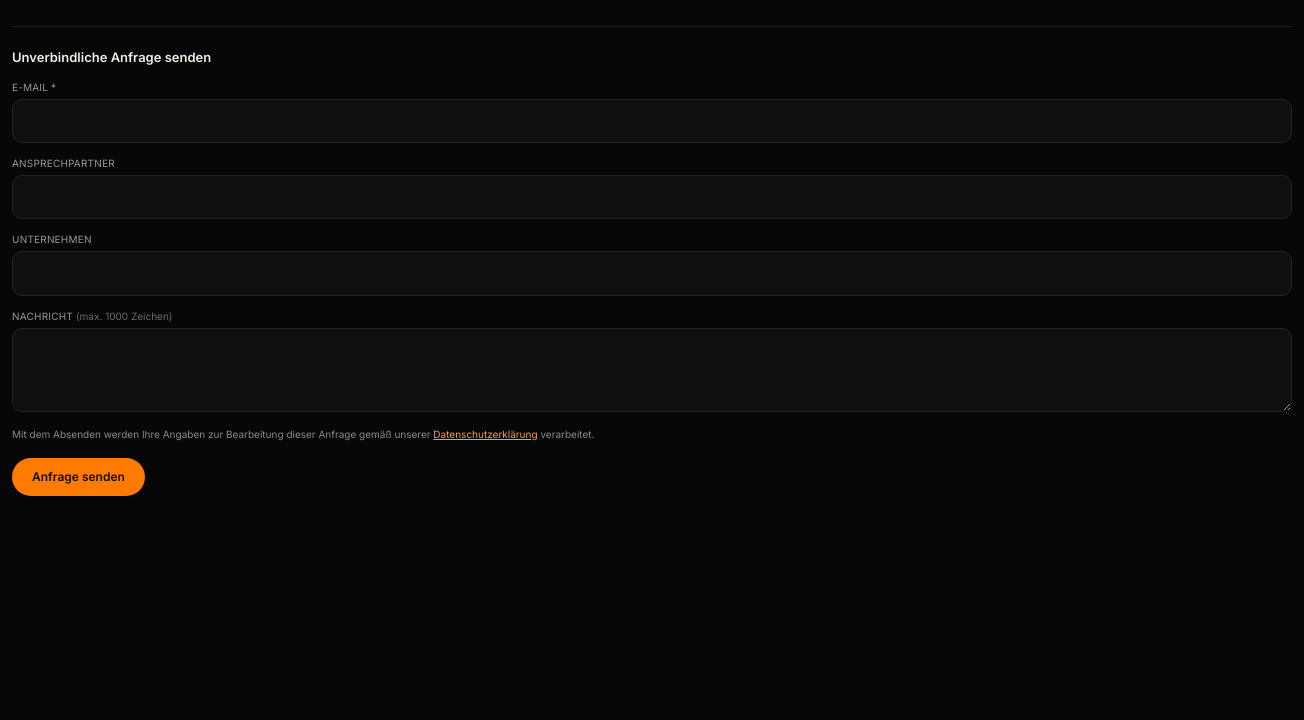
it: ProjectCheckContact › shows a generic error and a mailto fallback on a backend error response, without a fake success
Step 1. Type "visitor@example.com" into the field named "email" → (652, 121), box [12,99,1292,143]
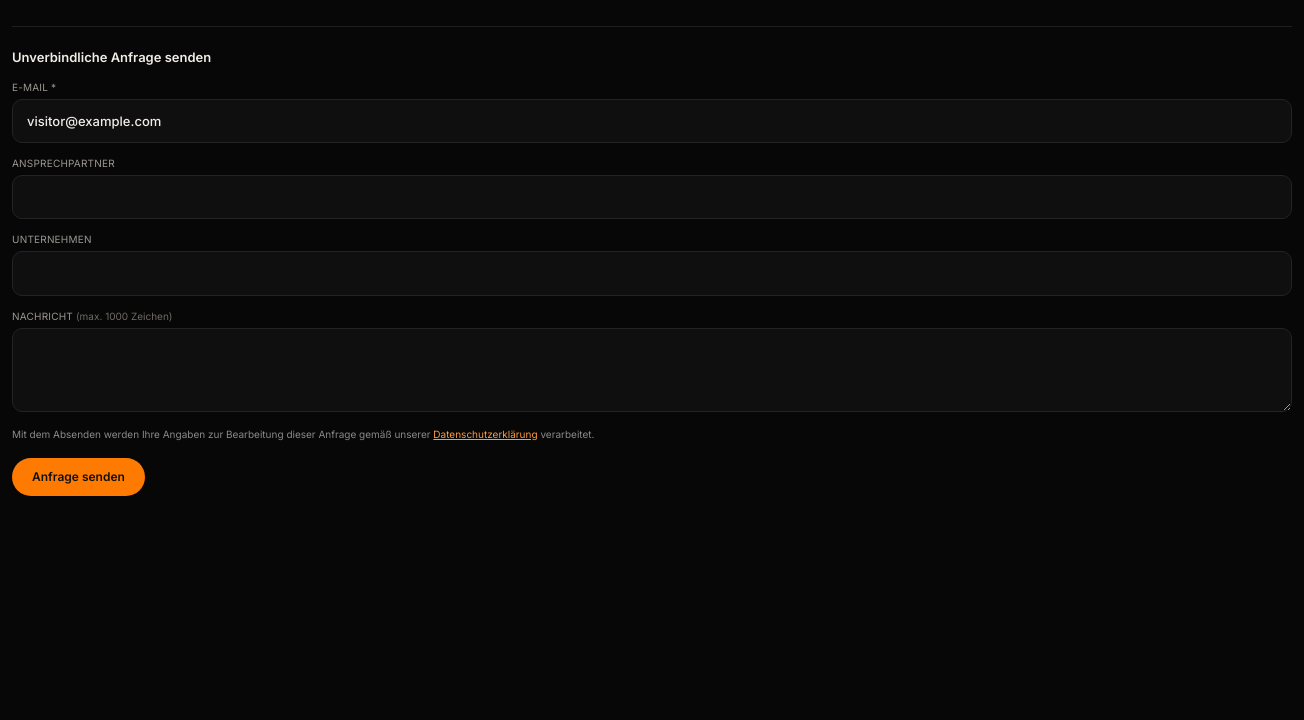
Step 2. Submit the form
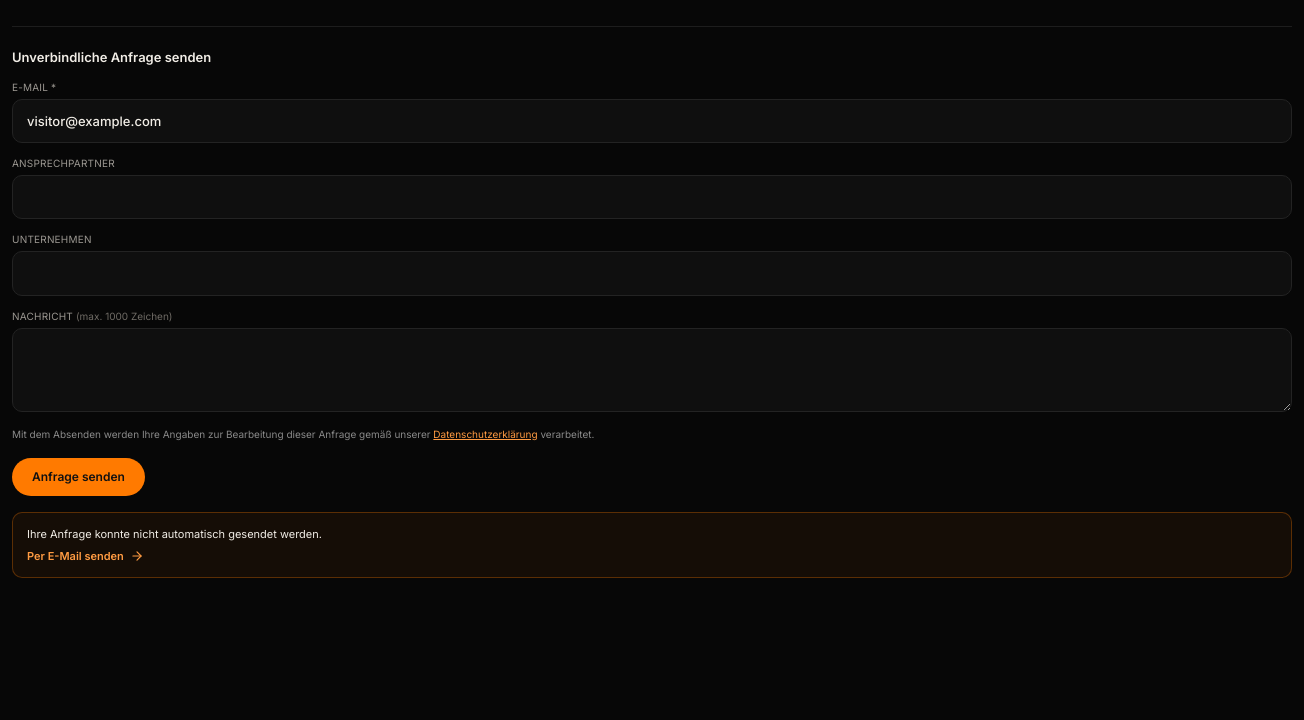
Now the message "Ihre Anfrage konnte nicht automatisch gesendet werden. Per E-Mail senden" is shown, box [12,512,1292,578]
Now the link "Per E-Mail senden" is shown, box [27,549,144,563]
